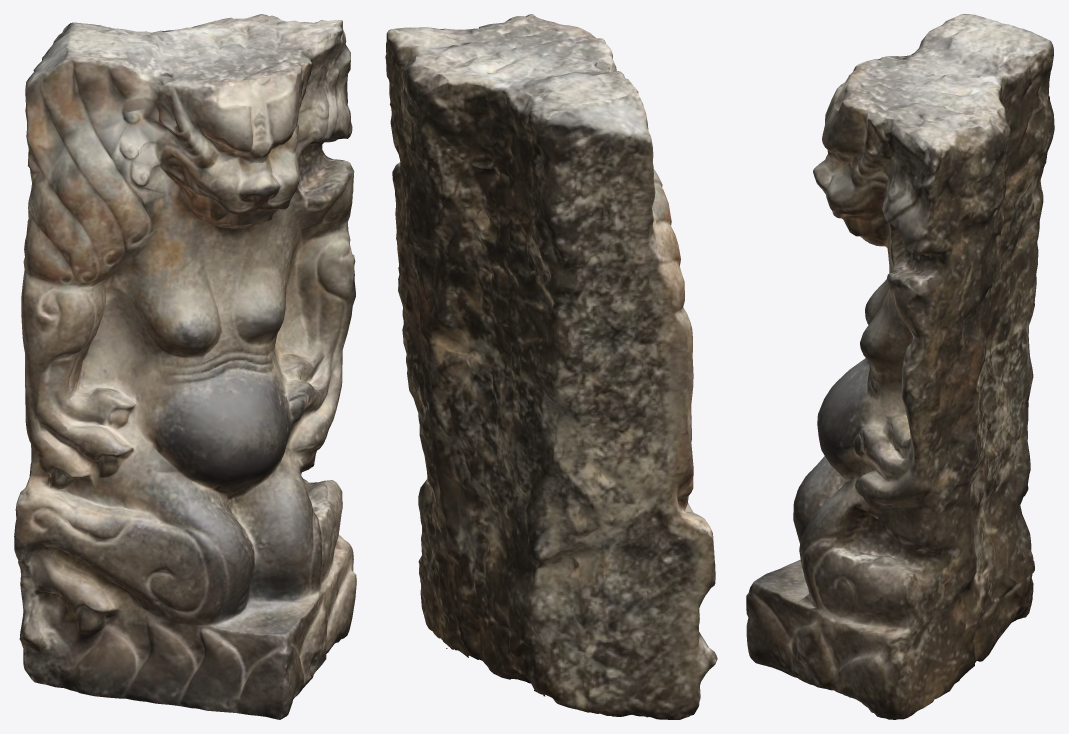
The model's file is winged_monster.glb.
The picture shows the model from 3 angles, left to right: view 1: azimuth 30°, elevation 25°; view 2: azimuth 150°, elevation 25°; view 3: azimuth 270°, elevation 25°; orthographic projection. The views are drawn at different scales.
Size of the model in its own units: 0.5663 by 0.9999 by 0.4671.
Materials: 1 (1 with a texture image).
